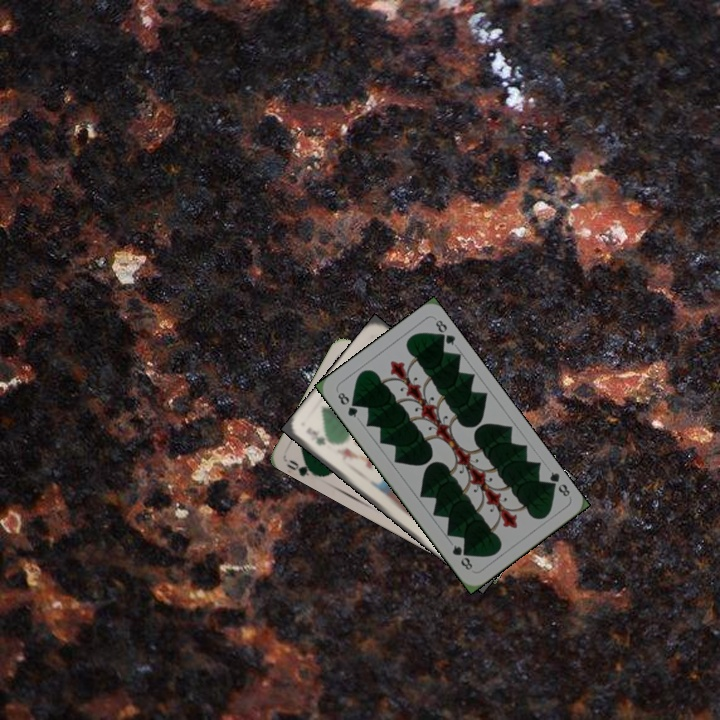G8: (543, 467, 573, 499), (334, 388, 360, 420)
GK: (307, 425, 328, 448)
GO: (283, 455, 322, 479)
